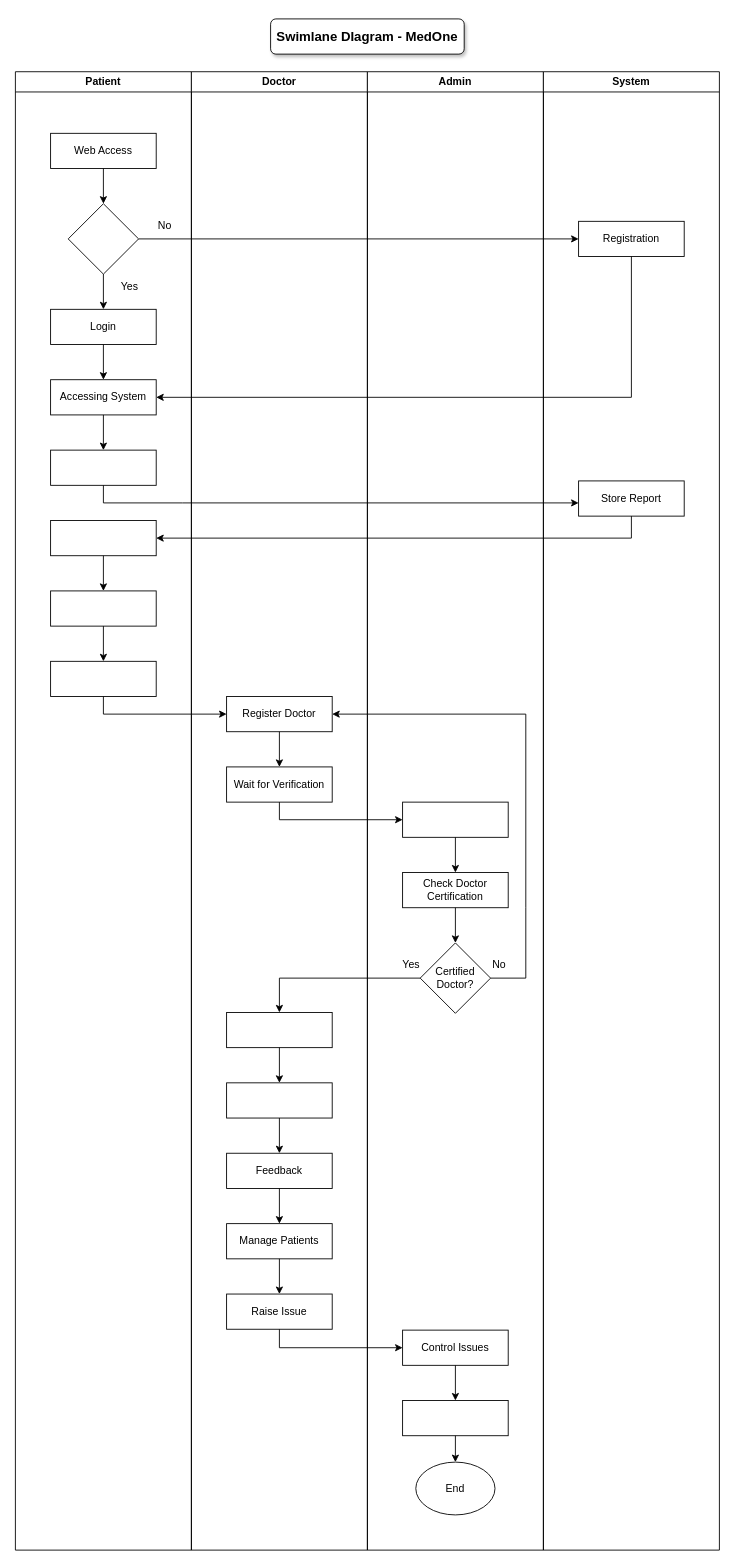
This 735x1566 diagram has some shape labels left out. The shapes that lost their labels are listed below. From the top down, each one's centre as x and y in pixels, then its label:
pixel 103 238: Registered?
pixel 103 467: Upload Report
pixel 103 538: Manage Report
pixel 103 608: Manage Doctor
pixel 103 678: Contact Doctor
pixel 455 819: Verification
pixel 279 1030: Search Patient
pixel 279 1100: View Patient Reports
pixel 455 1418: Drug Directory Management
